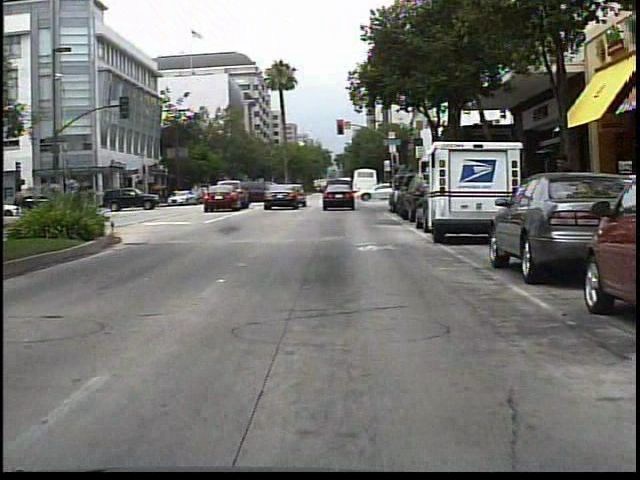person: (543, 149, 575, 241), (251, 181, 266, 206)
